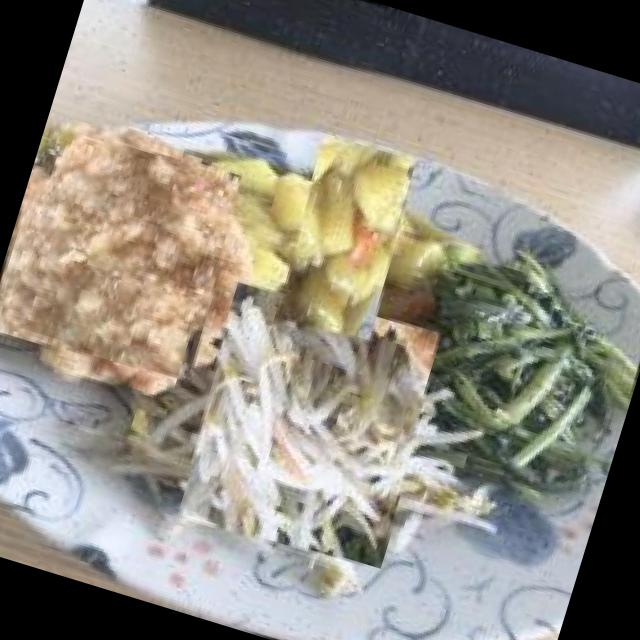curry: (254, 146, 438, 330)
fried_chicken: (0, 116, 253, 389)
mung_bean_sprouts: (161, 277, 458, 574)
water_spinach: (414, 255, 636, 477)
